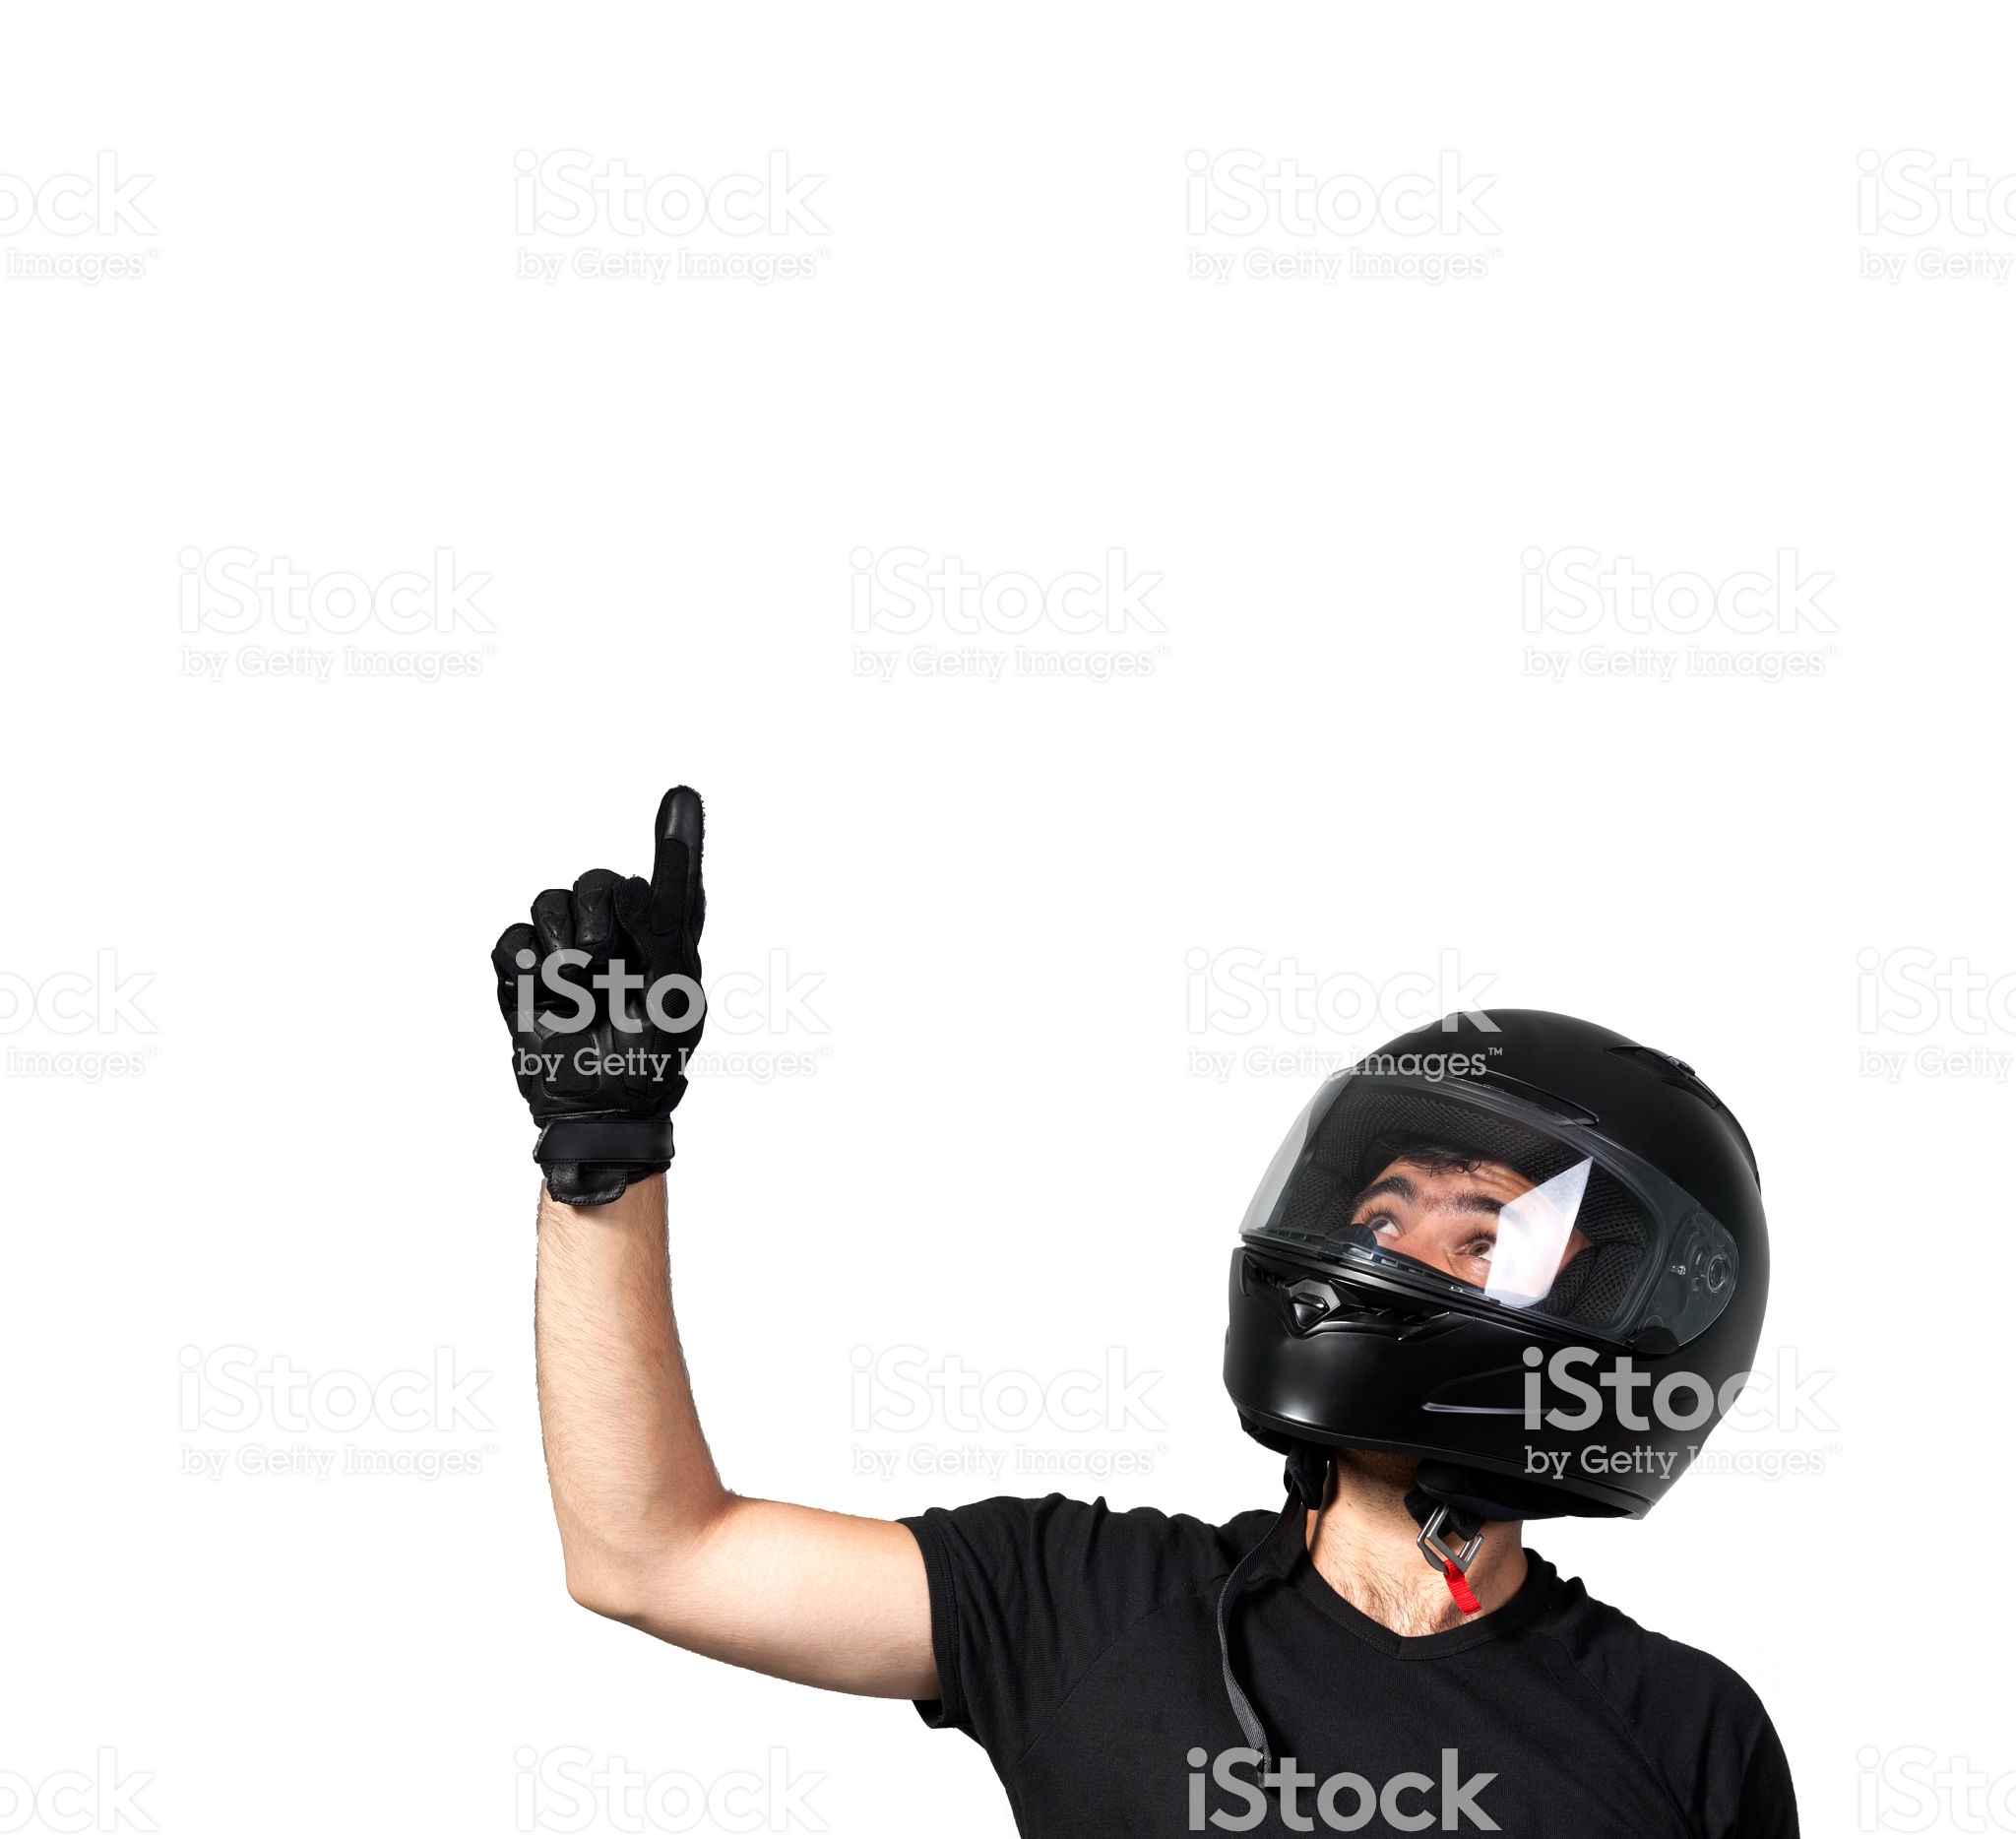helmet: (1192, 924, 1784, 1553)
